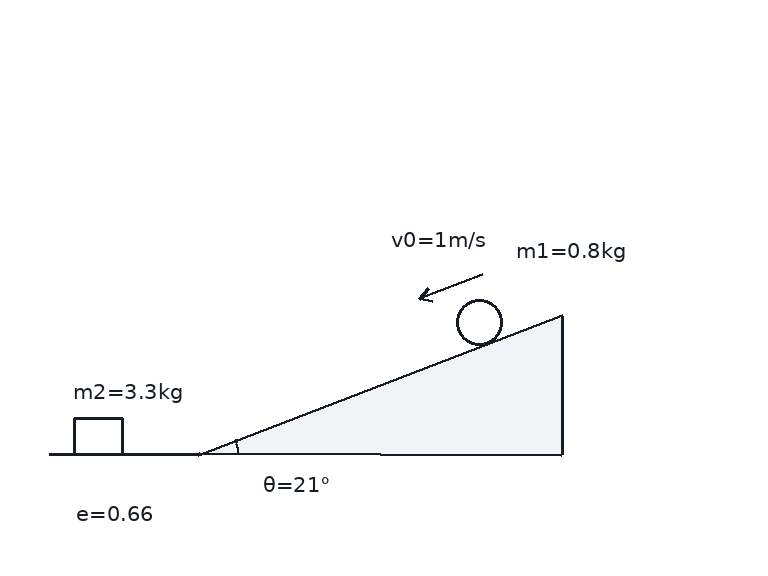ball: (454, 297, 504, 347)
block: (72, 416, 124, 456)
ramp: (196, 312, 564, 456)
